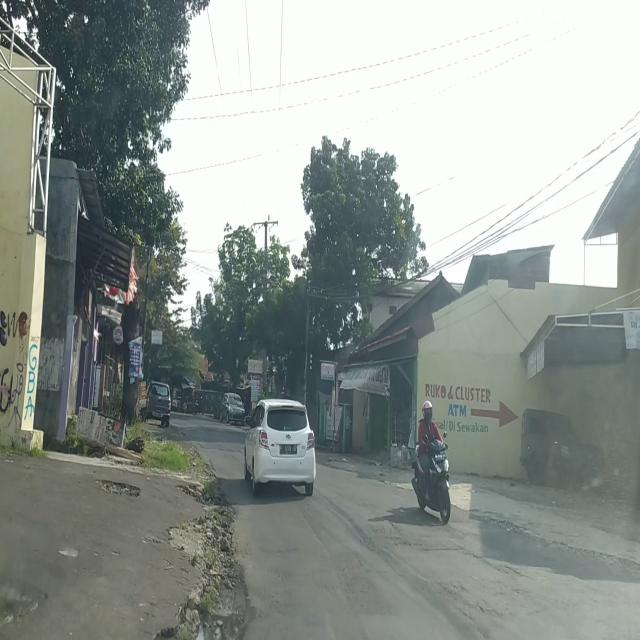Drain Hole: (352, 506, 411, 553)
